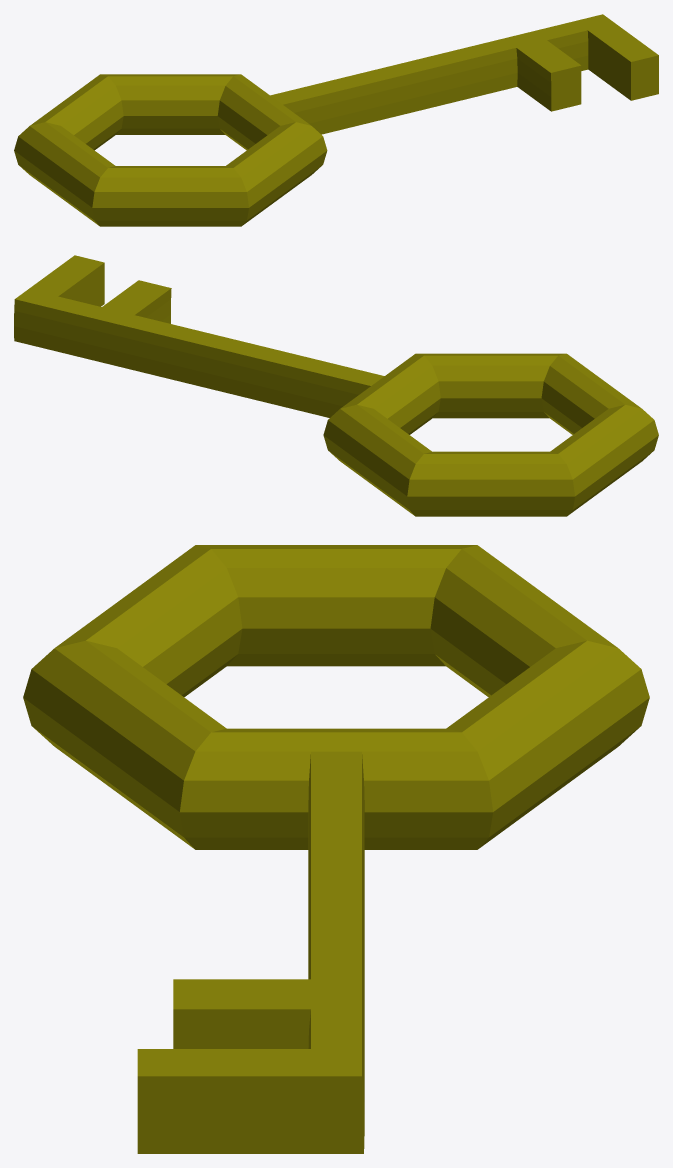
Rendered from Key.fbx.
The picture shows the model from 3 angles, top to bottom: view 1: azimuth 30°, elevation 25°; view 2: azimuth 150°, elevation 25°; view 3: azimuth 270°, elevation 25°; orthographic projection. The views are drawn at different scales.
Visible parts, largest first — view 1: Key; view 2: Key; view 3: Key.
Boxes of the visible parts, left/top/right/bottom form: Key: left=14, top=14, right=658, bottom=226; Key: left=14, top=255, right=658, bottom=516; Key: left=23, top=545, right=649, bottom=1153.
Size of the model in its own units: 42.19 by 4.12 by 20.59.
